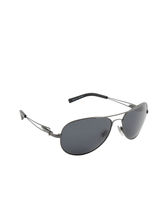glasses: (12, 91, 153, 156)
